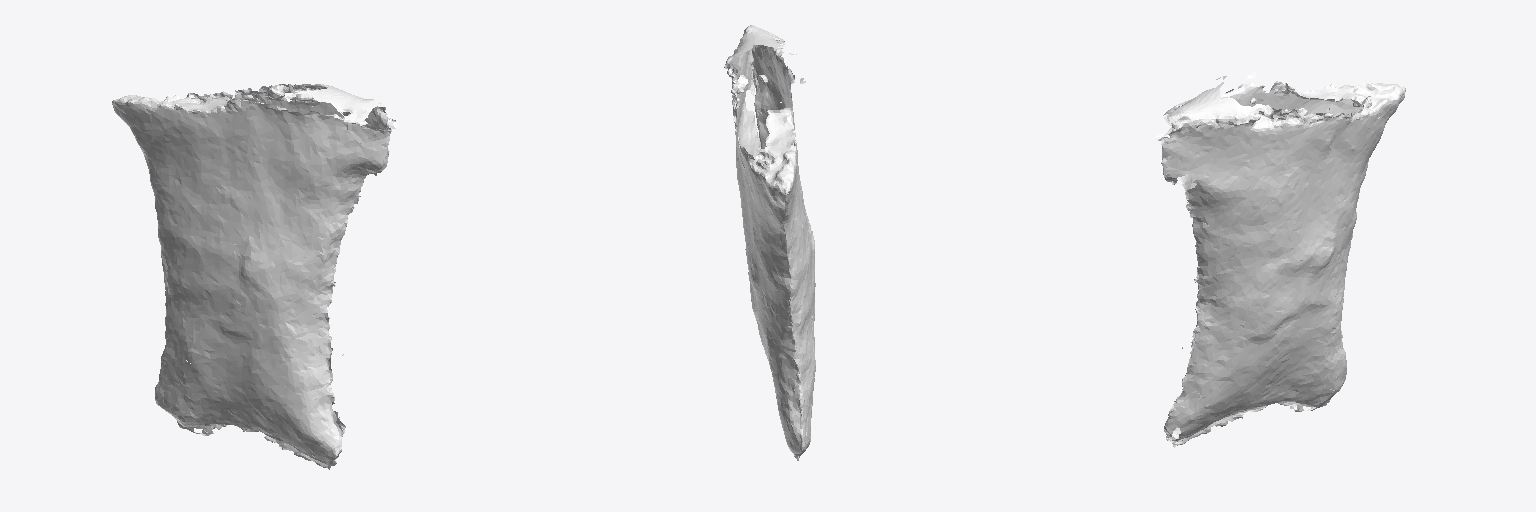
File: try4.obj
3 views of the same model, side by side, from view 1: azimuth 30°, elevation 25°; view 2: azimuth 150°, elevation 25°; view 3: azimuth 270°, elevation 25° (orthographic).
Parts seen in each view (by area): view 1: try2; view 2: try2; view 3: try2.
Boxes of the visible parts, x1,y1,x2,y2 form: try2: [112, 84, 396, 469]; try2: [724, 25, 815, 460]; try2: [1154, 72, 1405, 447].
Bounding box in the file's own units: 0.3383 × 0.7166 × 0.4498.